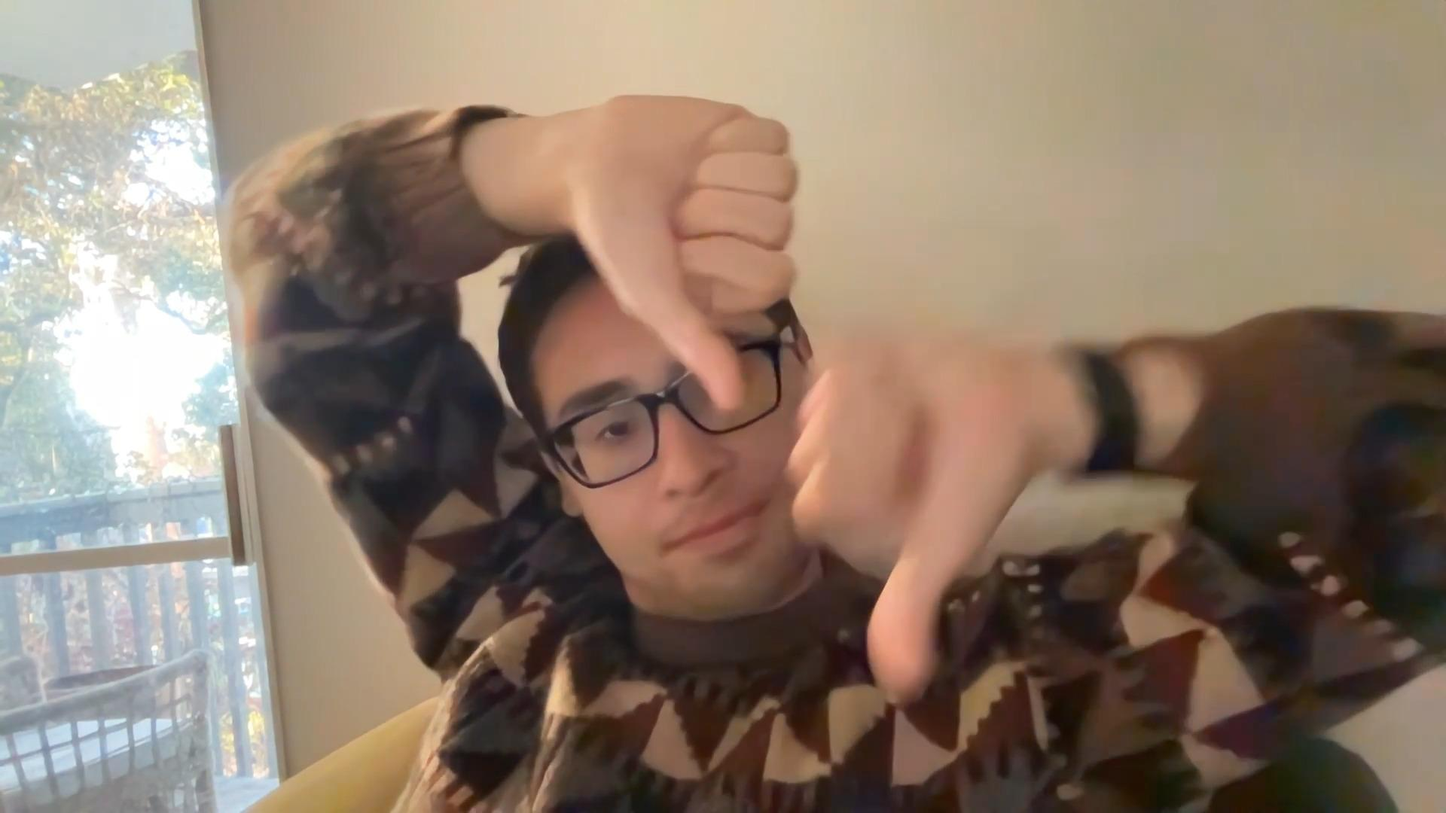face: (539, 294, 828, 623)
